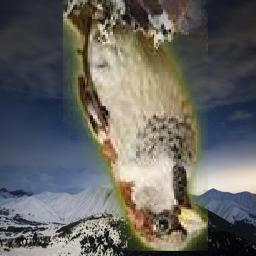Sparrow: (64, 1, 209, 252)
